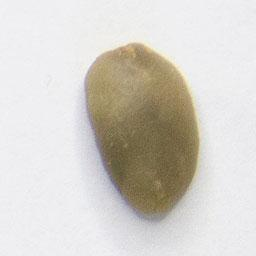longberry: (80, 37, 204, 221)
